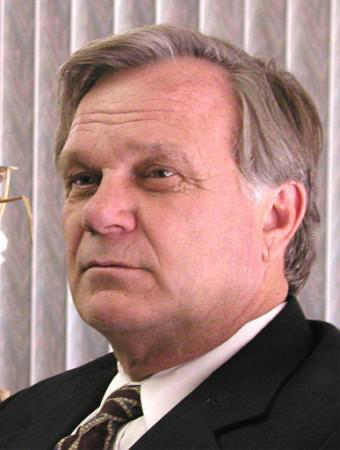Face: (59, 47, 264, 346)
